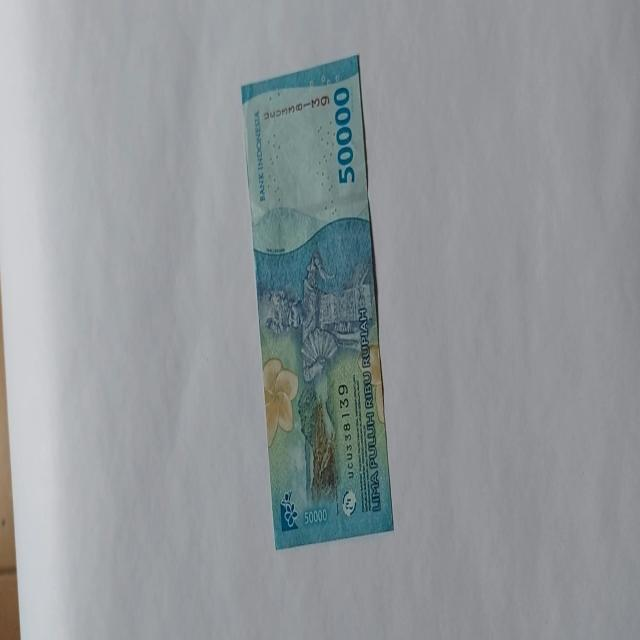lima puluh ribu rupiah: (239, 52, 395, 550)
